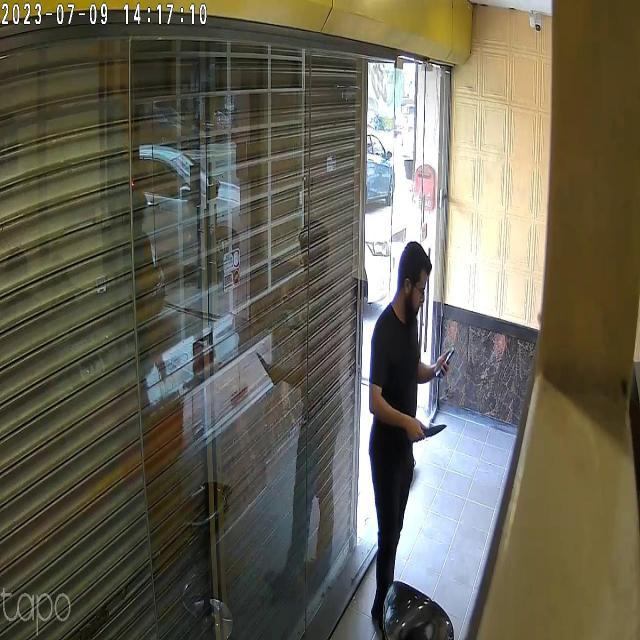Knife: (422, 418, 449, 443)
